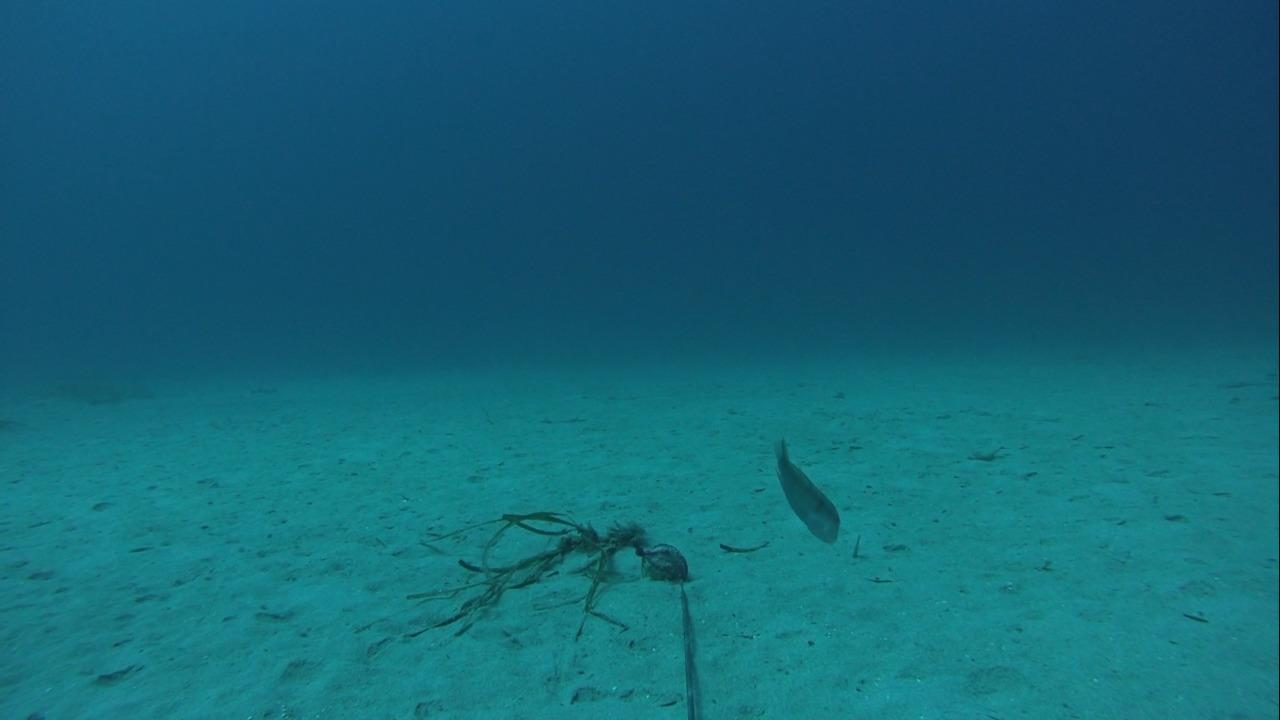raor: (767, 434, 842, 543)
